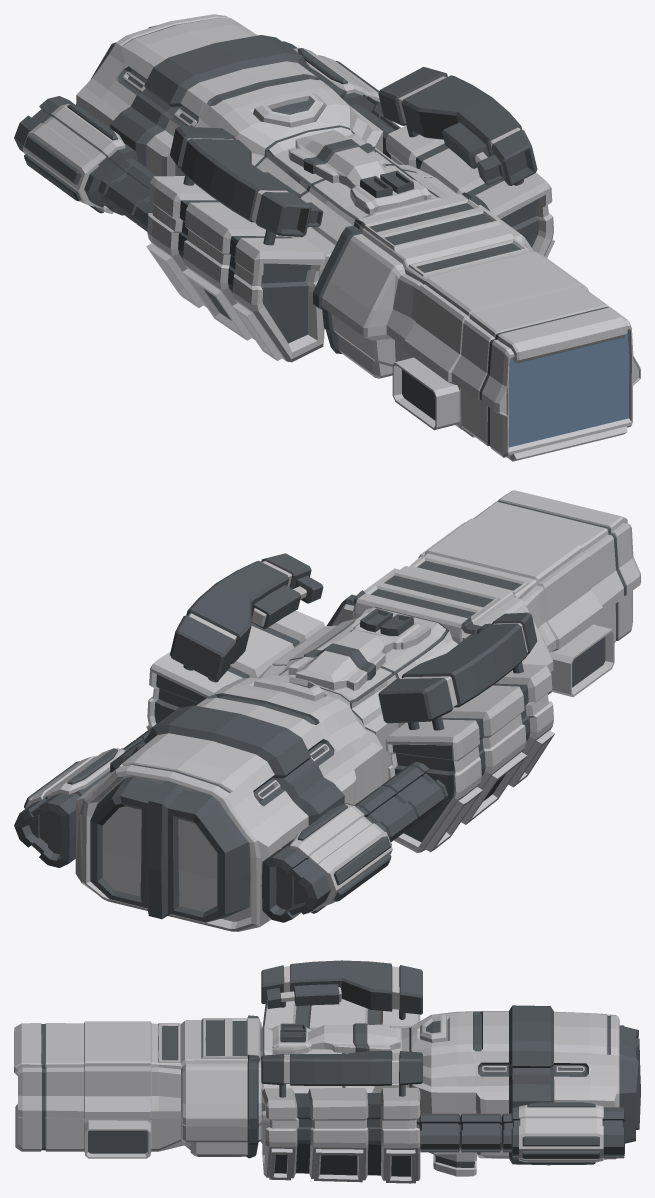
The model's file is Fighter_10_Neutral.fbx.
3 renders of one model, top to bottom at view 1: azimuth 30°, elevation 25°; view 2: azimuth 150°, elevation 25°; view 3: azimuth 270°, elevation 25°, orthographic. The views are drawn at different scales.
Parts seen in each view (by area): view 1: Fighter_10_Neutral; view 2: Fighter_10_Neutral; view 3: Fighter_10_Neutral.
Part boxes in pixels (x1,y1,x2,y2): Fighter_10_Neutral: (14, 14, 640, 461); Fighter_10_Neutral: (14, 490, 640, 931); Fighter_10_Neutral: (14, 960, 640, 1183).
Size of the model in its own units: 1585 by 875 by 3605.
Materials: 3 (3 with a texture image).
